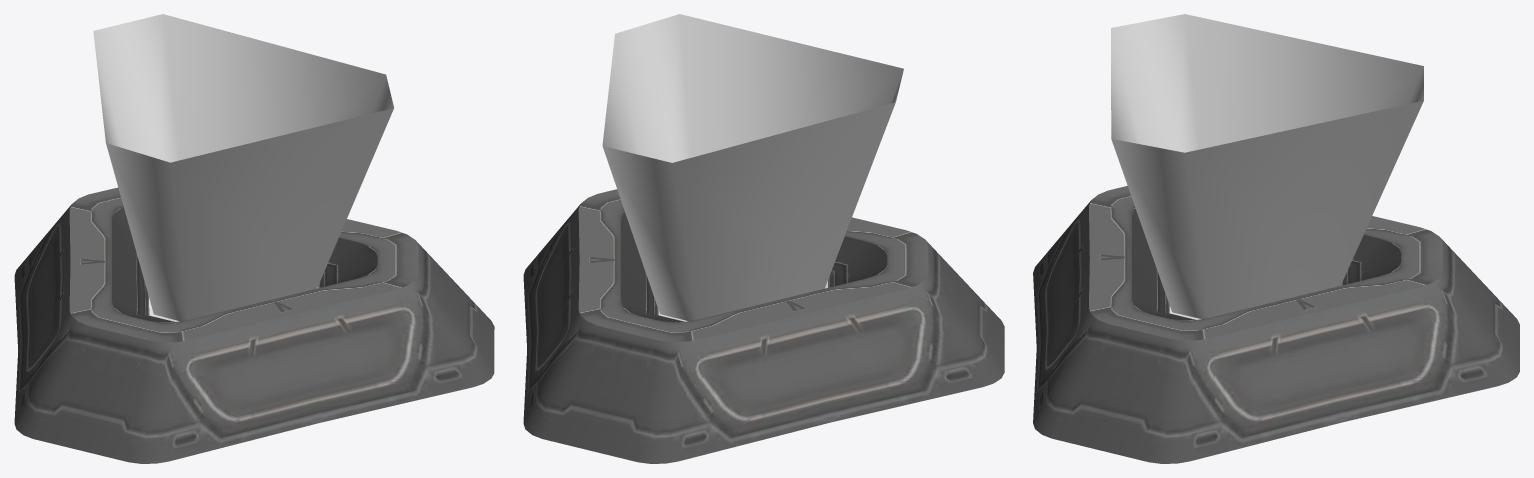
Rendered from Prop_ItemHolder.glb.
3 renders of one model, left to right at view 1: azimuth 30°, elevation 25°; view 2: azimuth 150°, elevation 25°; view 3: azimuth 270°, elevation 25°, orthographic.
Parts seen in each view (by area): view 1: Prop_ItemHolder; view 2: Prop_ItemHolder; view 3: Prop_ItemHolder.
Boxes of the visible parts, bbox=[...] form: Prop_ItemHolder: bbox=[14, 14, 494, 463]; Prop_ItemHolder: bbox=[523, 14, 1004, 463]; Prop_ItemHolder: bbox=[1033, 14, 1519, 463].
Size of the model in its own units: 0.8187 by 0.4359 by 0.7267.
Materials: 3 (2 with a texture image).
